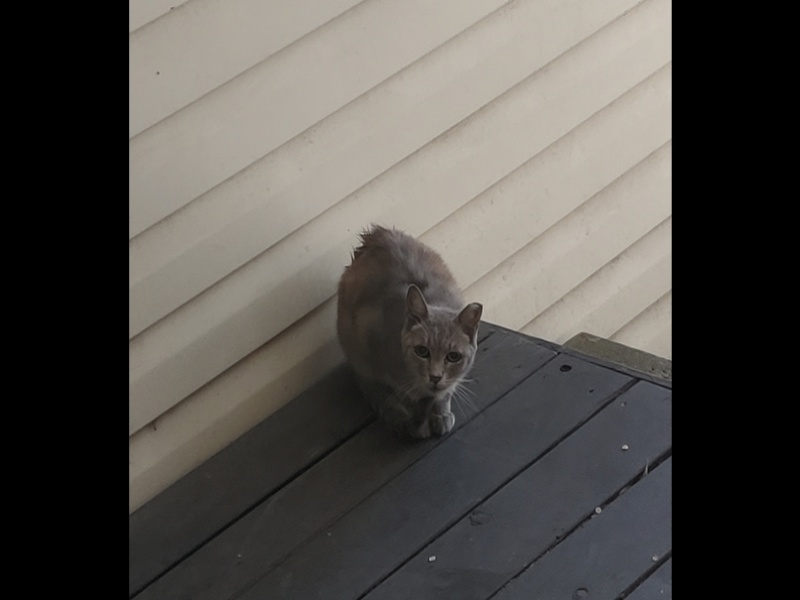cat: (329, 218, 487, 452)
